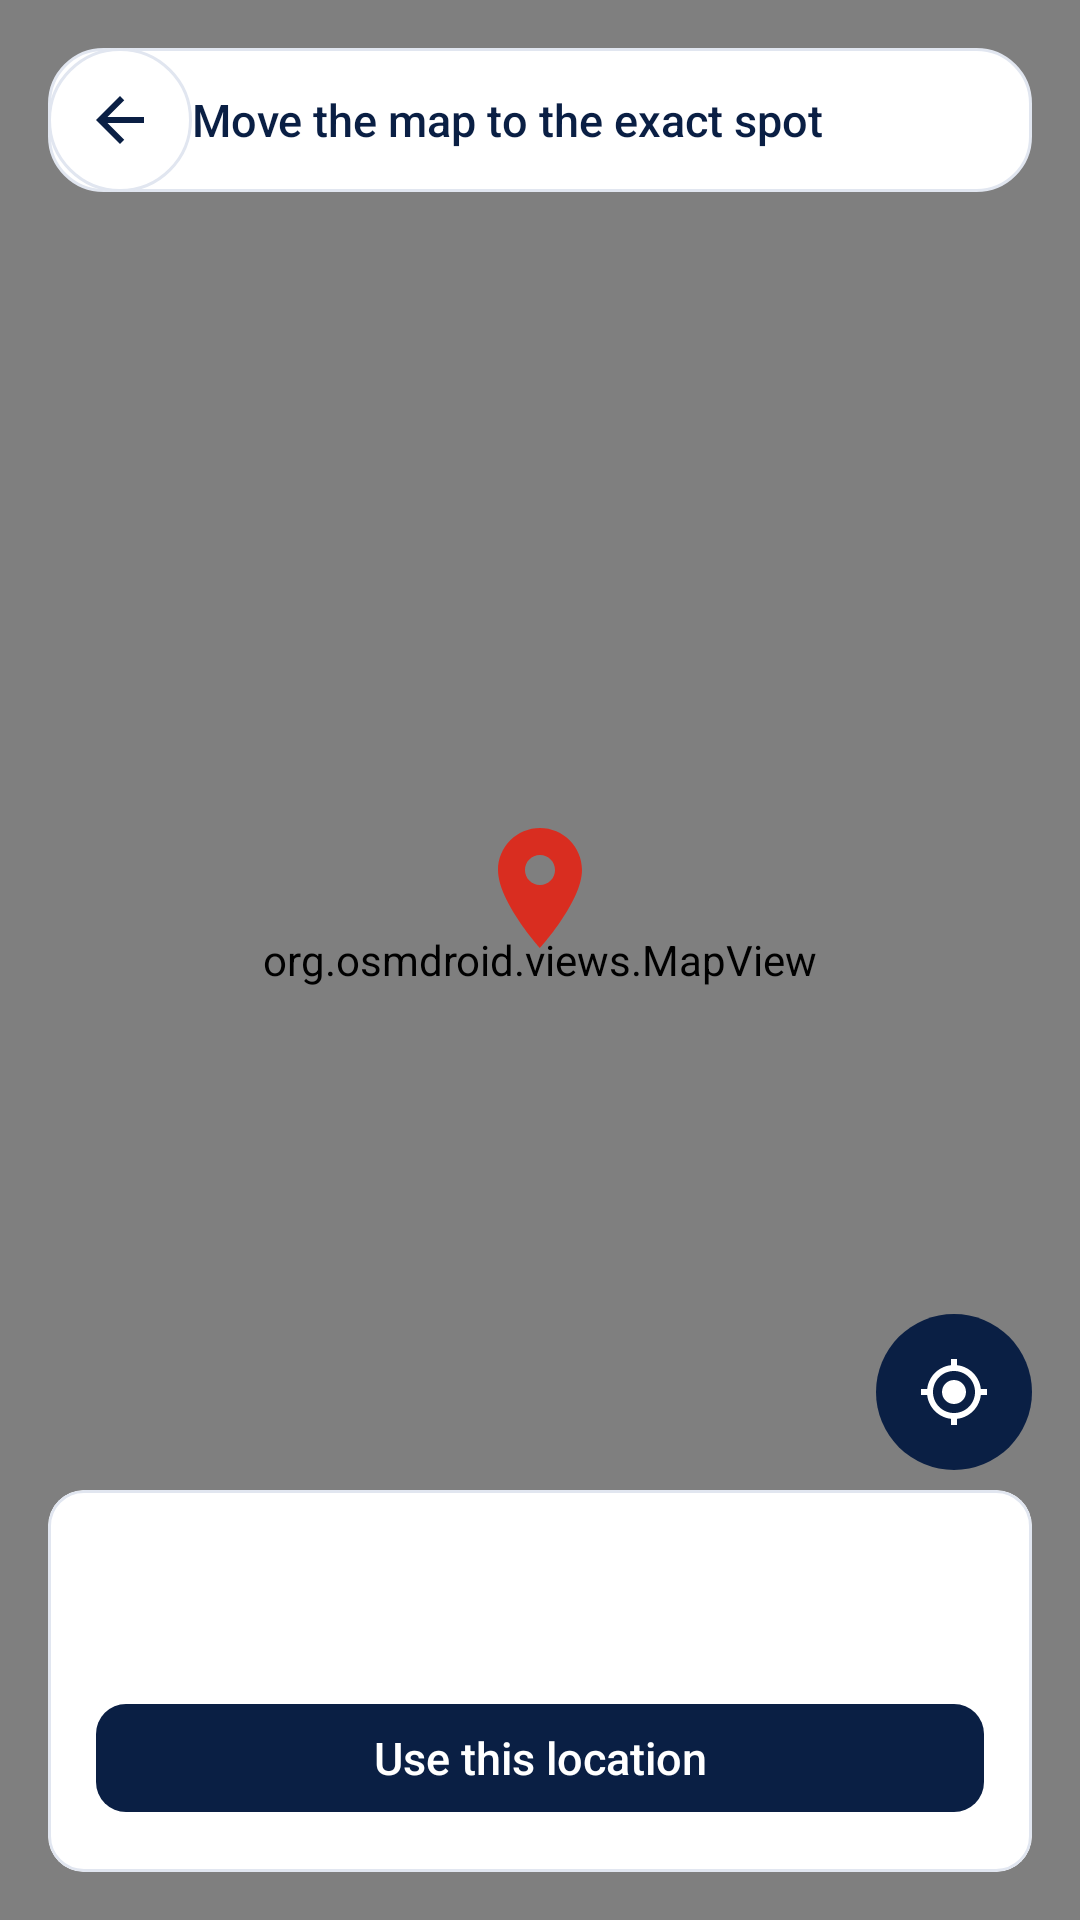

Icons on this 1080px x 1920px Android screen, each with its box as (x1, y1, x2, y2):
Back: (48, 48, 192, 192)
My location: (876, 1314, 1032, 1470)
Selected spot: (483, 828, 582, 950)
